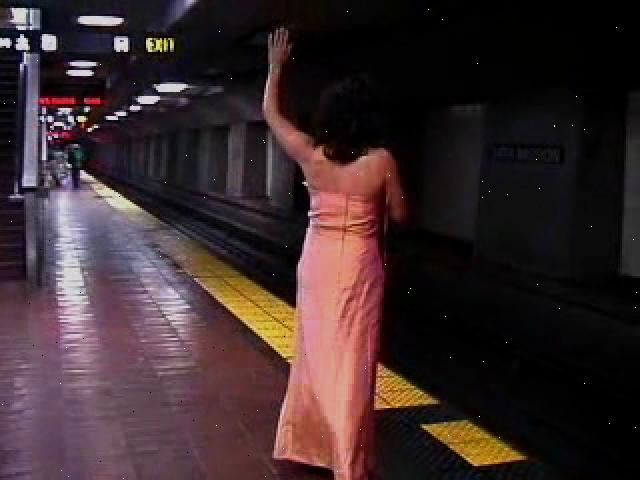L: (249, 24, 419, 474)
